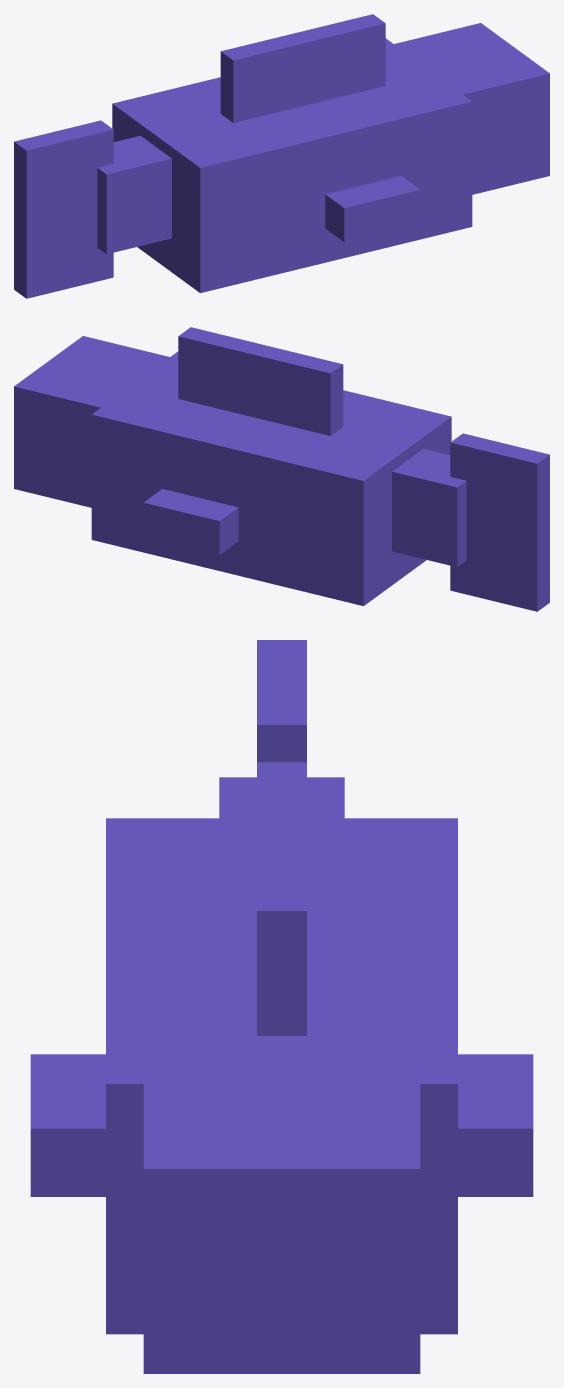
The model's file is fish_thunder_jack.glb.
3 views of the same model, one above another, from view 1: azimuth 30°, elevation 25°; view 2: azimuth 150°, elevation 25°; view 3: azimuth 270°, elevation 25° (orthographic). The views are drawn at different scales.
Parts seen in each view (by area): view 1: species.thunder_jack; view 2: species.thunder_jack; view 3: species.thunder_jack.
Boxes of the visible parts, x1,y1,x2,y2 form: species.thunder_jack: (14,14,549,298); species.thunder_jack: (14,327,549,611); species.thunder_jack: (30,640,533,1373).
Size of the model in its own units: 0.3 by 0.1088 by 0.1319.
